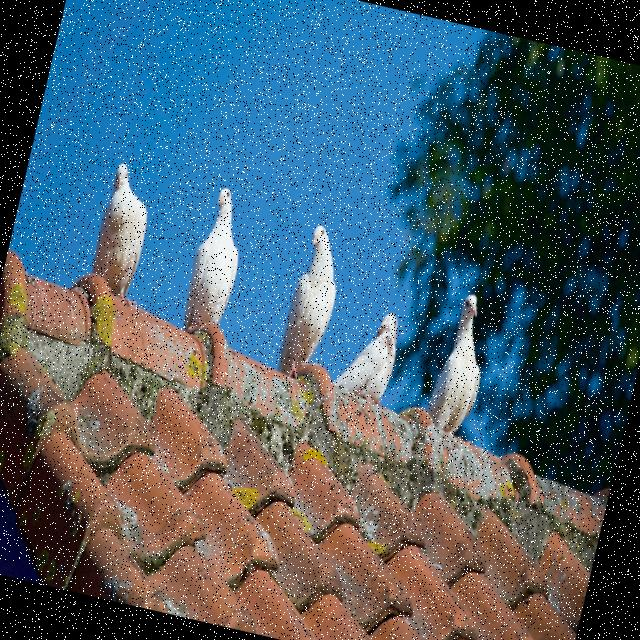bird: (272, 220, 352, 386), (176, 182, 255, 342), (420, 288, 500, 441), (84, 160, 161, 304), (329, 302, 406, 408)
